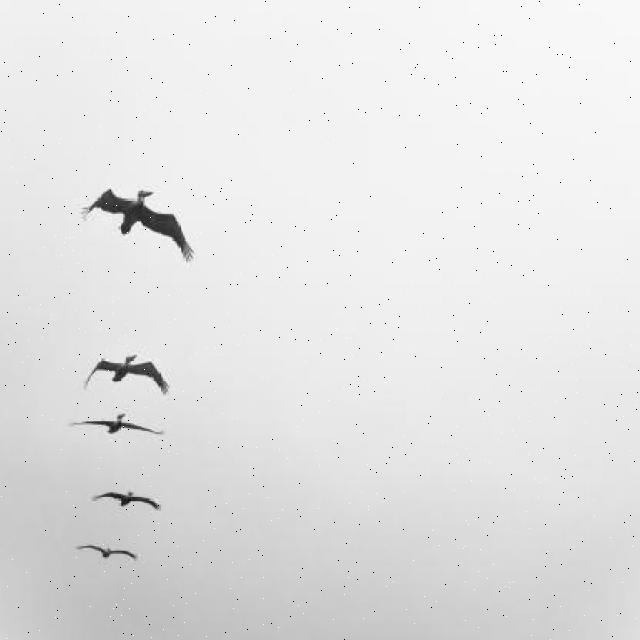bird: (80, 189, 194, 263), (83, 353, 169, 396), (68, 413, 165, 438), (91, 490, 160, 512), (76, 544, 138, 562)
